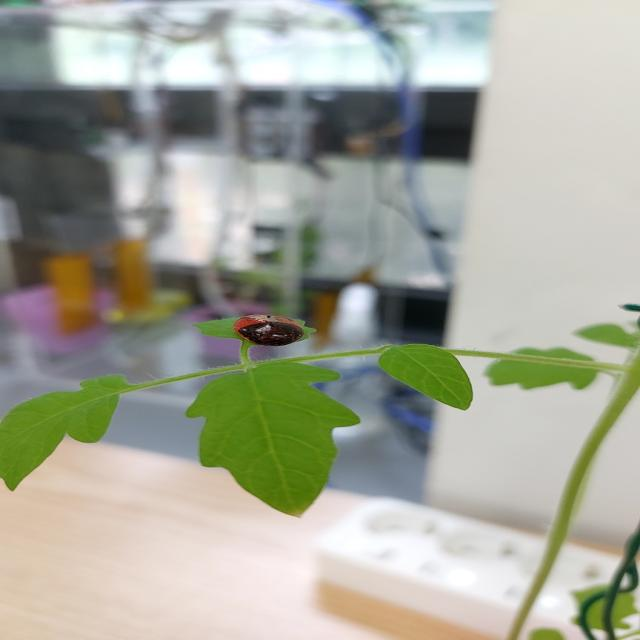bug: (208, 299, 324, 352)
